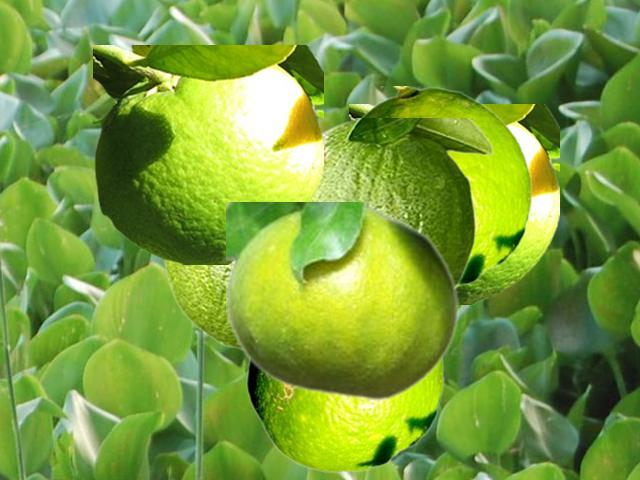dalandan: (93, 45, 322, 263), (226, 202, 459, 401), (349, 104, 558, 303), (360, 86, 531, 289), (313, 118, 493, 288), (246, 360, 443, 472), (163, 261, 238, 351)
